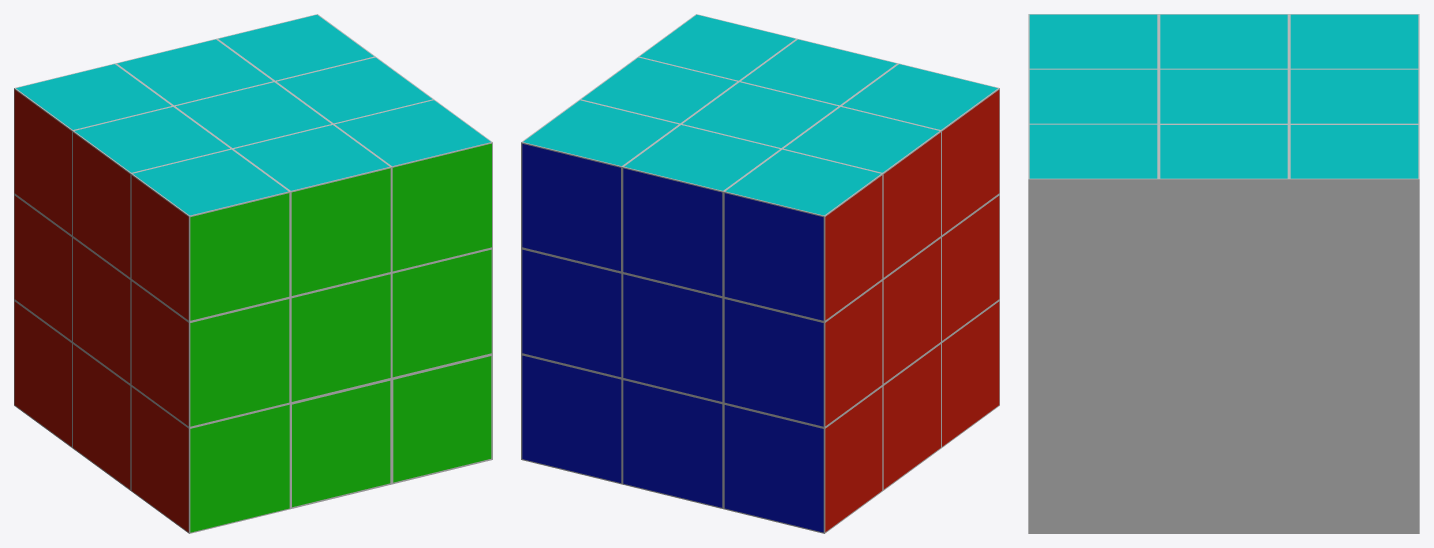
Rendered from 第二版细线魔方.fbx.
3 renders of one model, left to right at view 1: azimuth 30°, elevation 25°; view 2: azimuth 150°, elevation 25°; view 3: azimuth 270°, elevation 25°, orthographic. The views are drawn at different scales.
Visible parts, largest first — view 1: 立方体.018, 立方体, 立方体.009, 立方体.020, 立方体.019, 立方体.021, 立方体.024, 立方体.002, 立方体.011, 立方体.001, 立方体.010, 立方体.003 (+7 smaller); view 2: 立方体.024, 立方体.006, 立方体.015, 立方体.026, 立方体.025, 立方体.018, 立方体.021, 立方体.008, 立方体.017, 立方体.007, 立方体.016, 立方体 (+7 smaller); view 3: 立方体.023, 立方体.020, 立方体.026, 立方体.005, 立方体.014, 立方体.002, 立方体.008, 立方体.011, 立方体.017, 立方体.022, 立方体.019, 立方体.025 (+3 smaller).
Part boxes in pixels (left/top/right/bottom): 立方体.018: left=131, top=149, right=290, bottom=321; 立方体: left=131, top=385, right=290, bottom=533; 立方体.009: left=131, top=280, right=290, bottom=427; 立方体.020: left=333, top=99, right=492, bottom=272; 立方体.019: left=232, top=124, right=391, bottom=297; 立方体.021: left=72, top=106, right=231, bottom=278; 立方体.024: left=14, top=63, right=173, bottom=236; 立方体.002: left=391, top=354, right=492, bottom=484; 立方体.011: left=391, top=248, right=492, bottom=378; 立方体.001: left=290, top=379, right=391, bottom=508; 立方体.010: left=290, top=273, right=391, bottom=403; 立方体.003: left=72, top=343, right=130, bottom=490; 立方体.024: left=723, top=149, right=882, bottom=321; 立方体.006: left=723, top=385, right=882, bottom=533; 立方体.015: left=723, top=280, right=882, bottom=427; 立方体.026: left=521, top=99, right=680, bottom=272; 立方体.025: left=622, top=124, right=781, bottom=297; 立方体.018: left=840, top=63, right=999, bottom=236; 立方体.021: left=782, top=106, right=941, bottom=278; 立方体.008: left=521, top=354, right=622, bottom=484; 立方体.017: left=521, top=248, right=622, bottom=378; 立方体.007: left=622, top=379, right=723, bottom=508; 立方体.016: left=622, top=273, right=723, bottom=403; 立方体: left=941, top=300, right=999, bottom=448; 立方体.023: left=1158, top=124, right=1289, bottom=297; 立方体.020: left=1028, top=124, right=1158, bottom=297; 立方体.026: left=1289, top=124, right=1419, bottom=297; 立方体.005: left=1158, top=415, right=1289, bottom=533; 立方体.014: left=1158, top=297, right=1289, bottom=415; 立方体.002: left=1028, top=415, right=1158, bottom=533; 立方体.008: left=1289, top=415, right=1419, bottom=533; 立方体.011: left=1028, top=297, right=1158, bottom=415; 立方体.017: left=1289, top=297, right=1419, bottom=415; 立方体.022: left=1158, top=69, right=1289, bottom=124; 立方体.019: left=1028, top=69, right=1158, bottom=124; 立方体.025: left=1289, top=69, right=1419, bottom=124.
Size of the model in its own units: 118 by 118 by 118.
